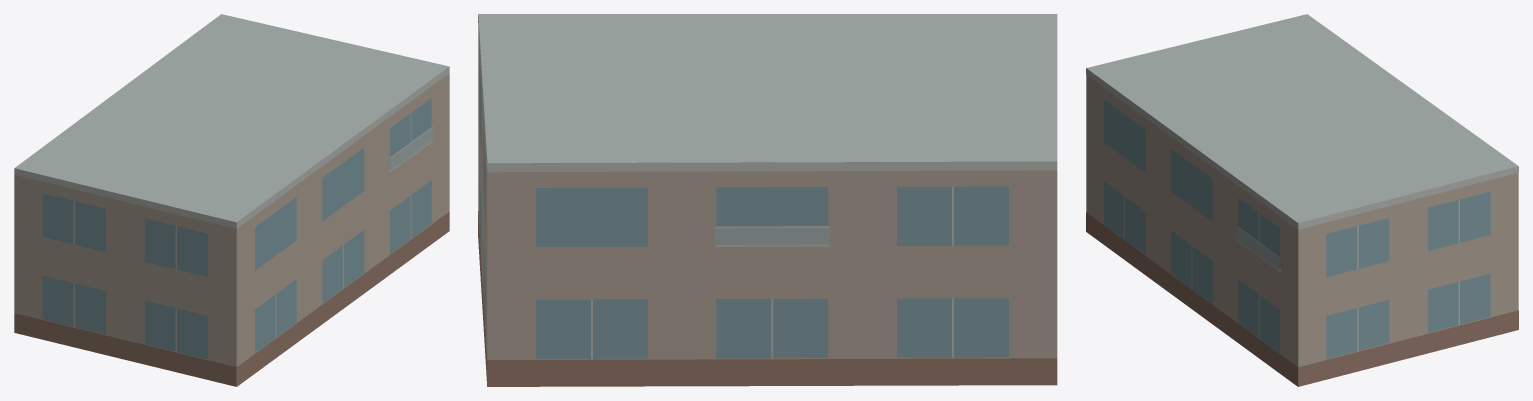
Rendered from survey-upis-32744785.glb.
3 renders of one model, left to right at view 1: azimuth 30°, elevation 25°; view 2: azimuth 150°, elevation 25°; view 3: azimuth 270°, elevation 25°, orthographic. The views are drawn at different scales.
Parts seen in each view (by area): view 1: survey-upis-32744785.tmp; view 2: survey-upis-32744785.tmp; view 3: survey-upis-32744785.tmp.
Boxes of the visible parts, bbox=[...] form: survey-upis-32744785.tmp: bbox=[14, 14, 449, 386]; survey-upis-32744785.tmp: bbox=[478, 14, 1057, 386]; survey-upis-32744785.tmp: bbox=[1086, 14, 1518, 386].
Bounding box in the file's own units: 16.72 × 6.1 × 14.62.
